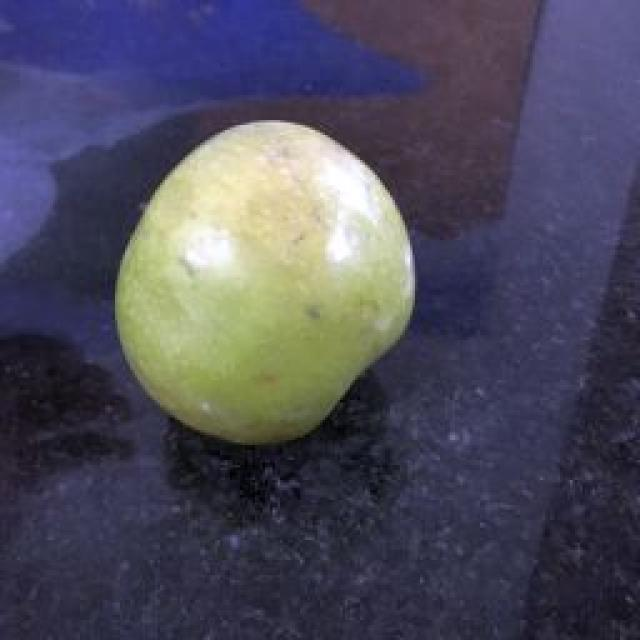Good_Apple: (112, 120, 418, 450)
